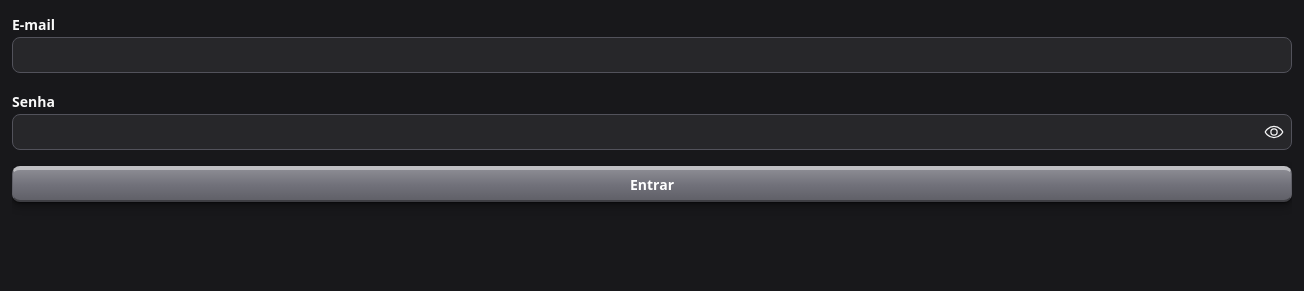
Test: LoginForm › mostra a mensagem quando o login é recusado
This screenshot has width=1304, height=291.
In the field labelled "E-mail": (652, 55) top-left (12, 37), bottom-right (1292, 73), type "k@x.com"
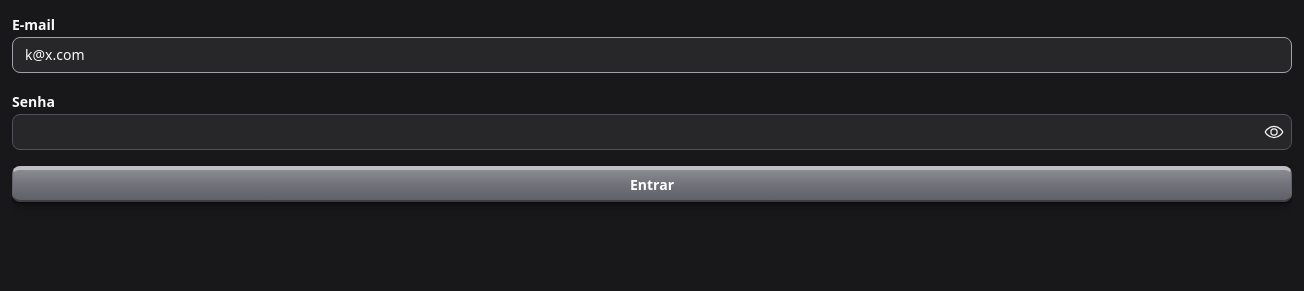
In the password field labelled "Senha": (652, 132) top-left (13, 115), bottom-right (1291, 149), type "errada"
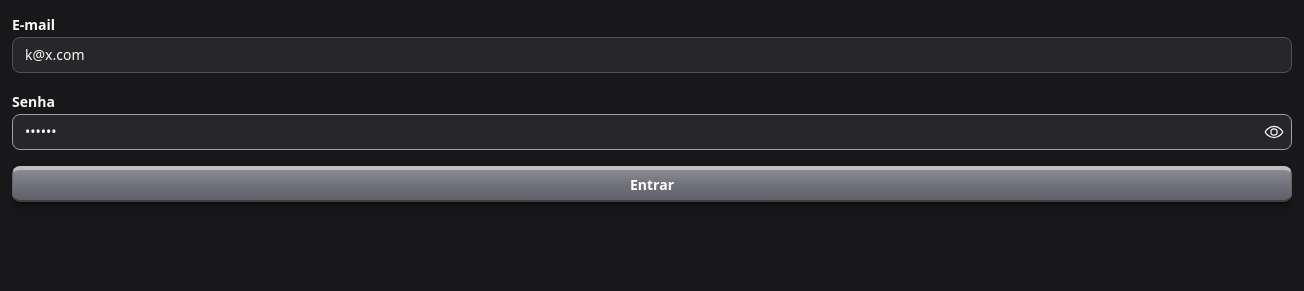
Click the button "Entrar": (652, 184) top-left (12, 166), bottom-right (1292, 202)
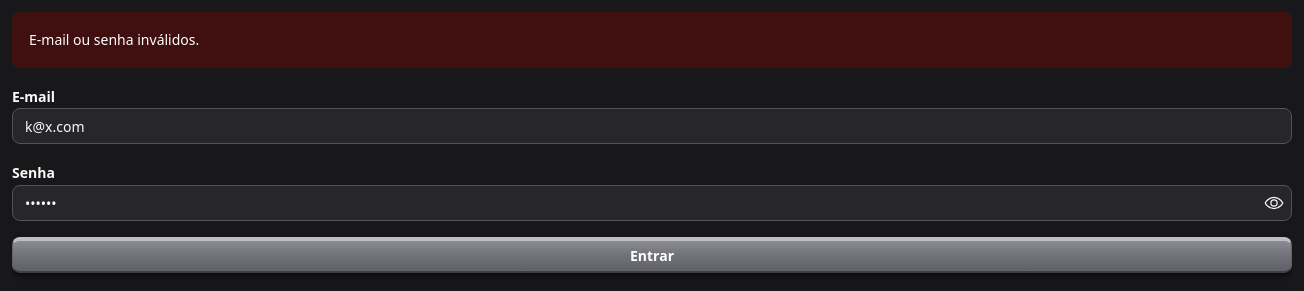
Result: the text "E-mail ou senha inválidos." is shown at top-left (29, 30), bottom-right (199, 49)
